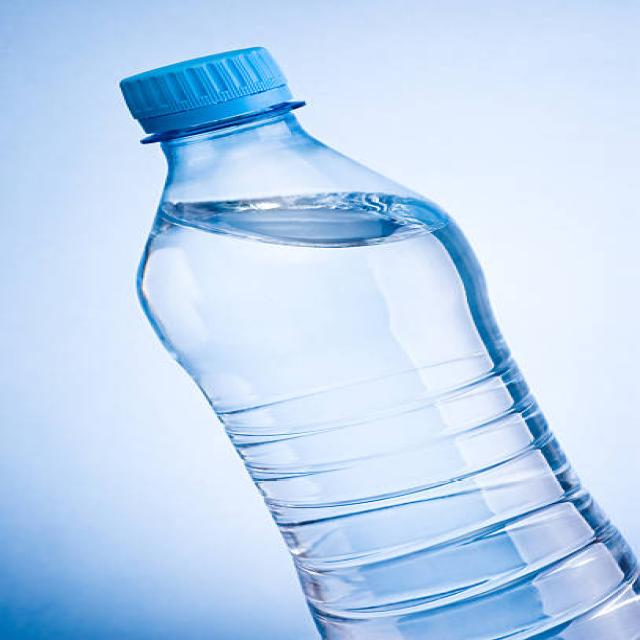blue_bottle: (66, 29, 638, 639)
